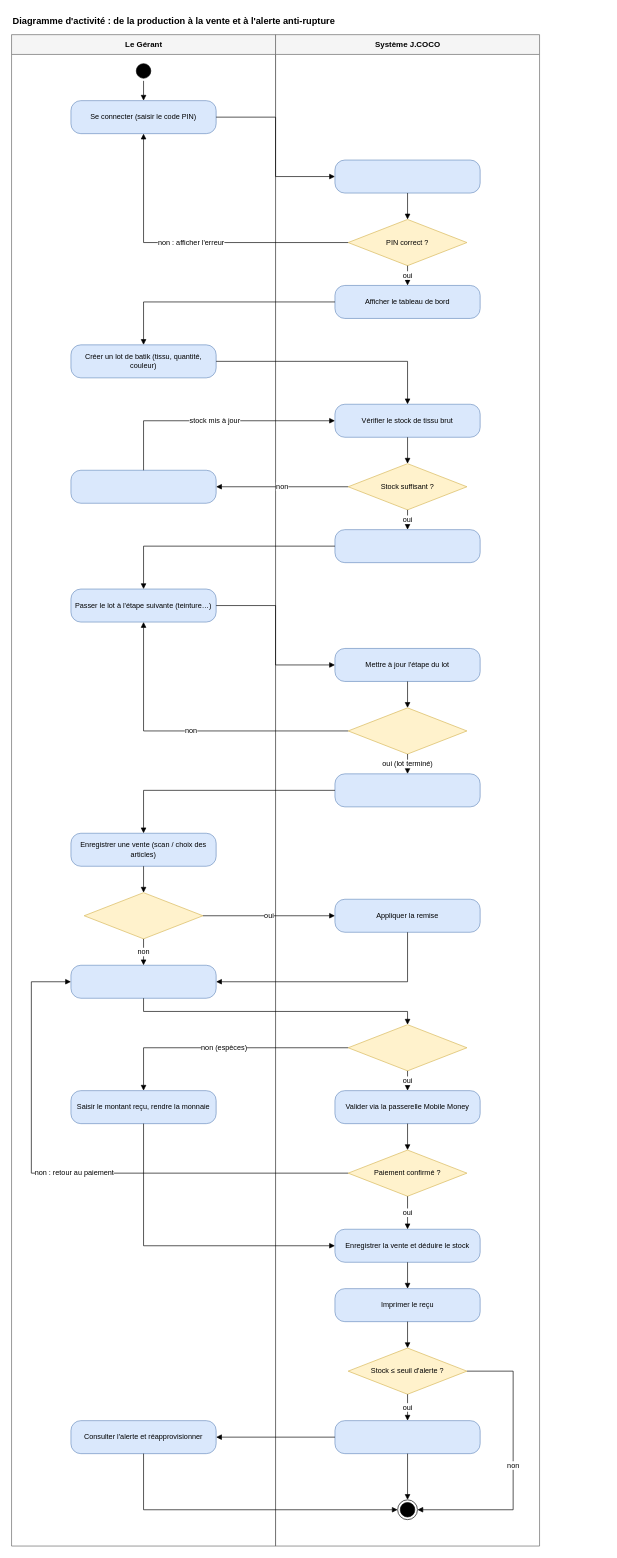
This 617x1558 diagram has some shape labels left out. Each missing label, with the centre of its shape:
"Ajouter les produits finis au stock" belongs at pixel 407 790.
"Choisir le mode de paiement" belongs at pixel 143 981.
"Dernière étape ?" belongs at pixel 407 730.
"Déclencher l'alerte anti-rupture" belongs at pixel 407 1437.
"Déduire le tissu et créer le lot" belongs at pixel 407 546.
"Paiement Mobile Money ?" belongs at pixel 407 1047.
"Remise à appliquer ?" belongs at pixel 143 915.
"Saisir un réapprovisionnement" belongs at pixel 143 486.
"Vérifier le PIN" belongs at pixel 407 176.
